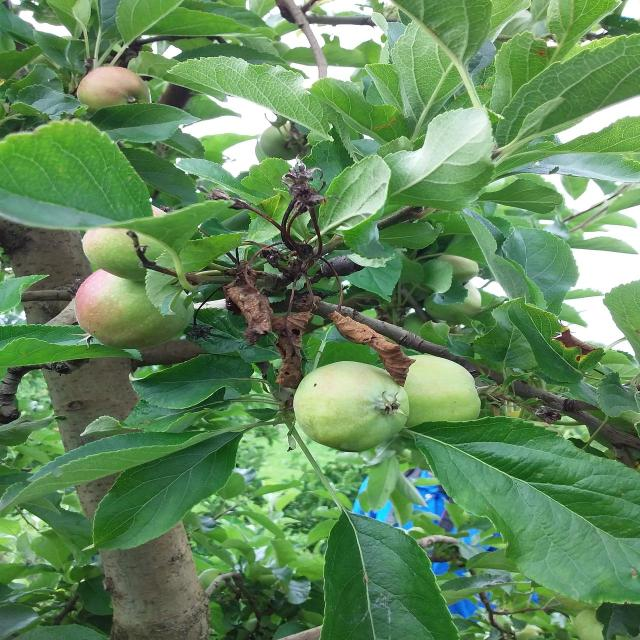-FireBlight-: (223, 242, 416, 388)
